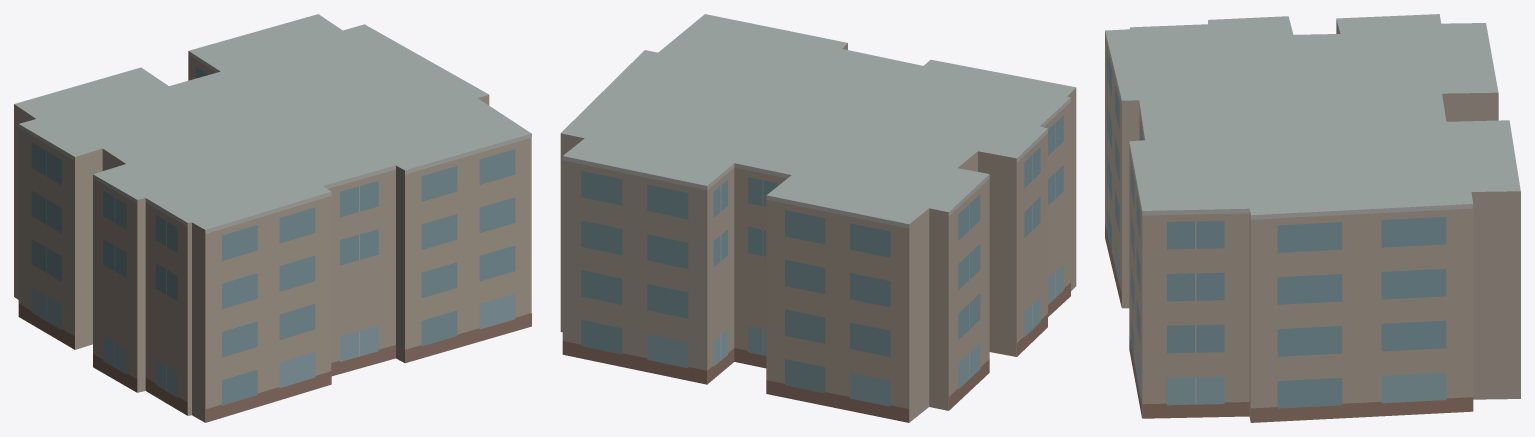
Rendered from survey-upis-32621028.glb.
3 renders of one model, left to right at view 1: azimuth 30°, elevation 25°; view 2: azimuth 150°, elevation 25°; view 3: azimuth 270°, elevation 25°, orthographic. The views are drawn at different scales.
Visible parts, largest first — view 1: survey-upis-32621028.tmp; view 2: survey-upis-32621028.tmp; view 3: survey-upis-32621028.tmp.
Boxes of the visible parts, x1,y1,x2,y2 form: survey-upis-32621028.tmp: (14,14,531,422); survey-upis-32621028.tmp: (560,14,1076,422); survey-upis-32621028.tmp: (1105,14,1520,422).
Size of the model in its own units: 23.28 by 11.2 by 20.33.
